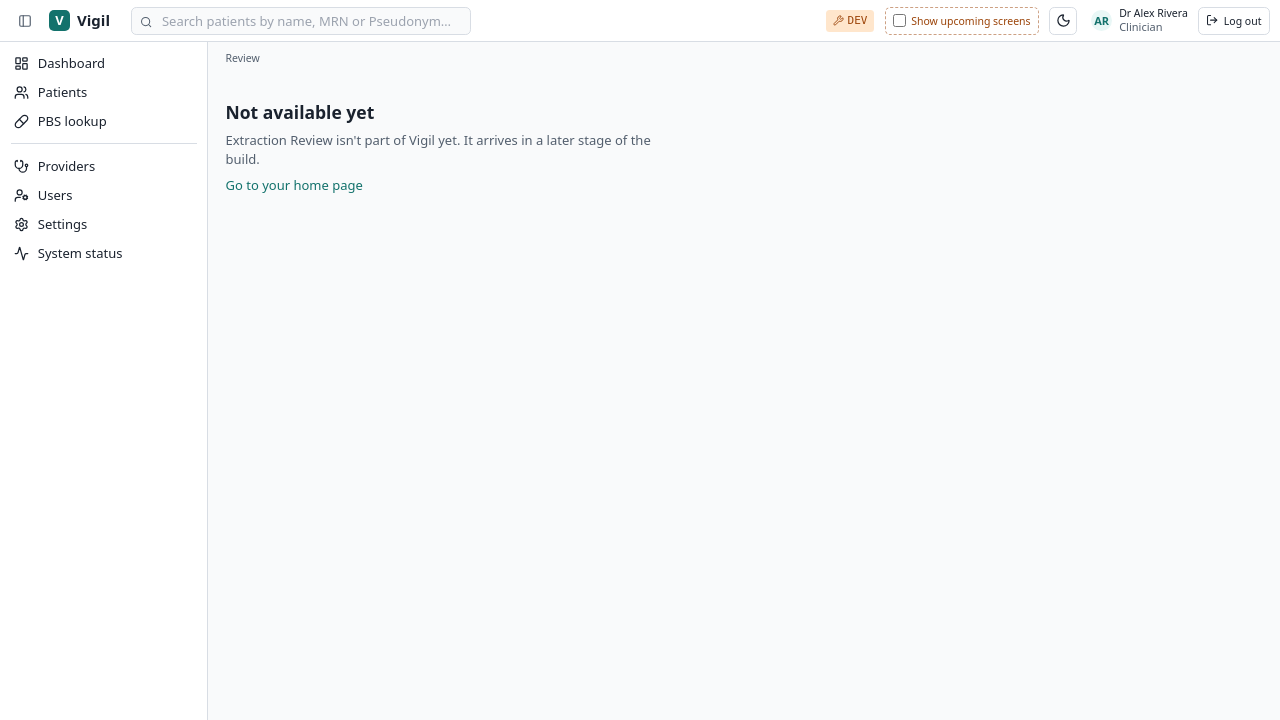
it: build stages (design doc §15) › reveals upcoming screens as labelled placeholders when the dev toggle is on
Expected: the navigation bar named "Main" is shown, [14,54,122,262]
Click the checkbox labelled "Show upcoming screens" at (899, 20), box [893,14,906,27]
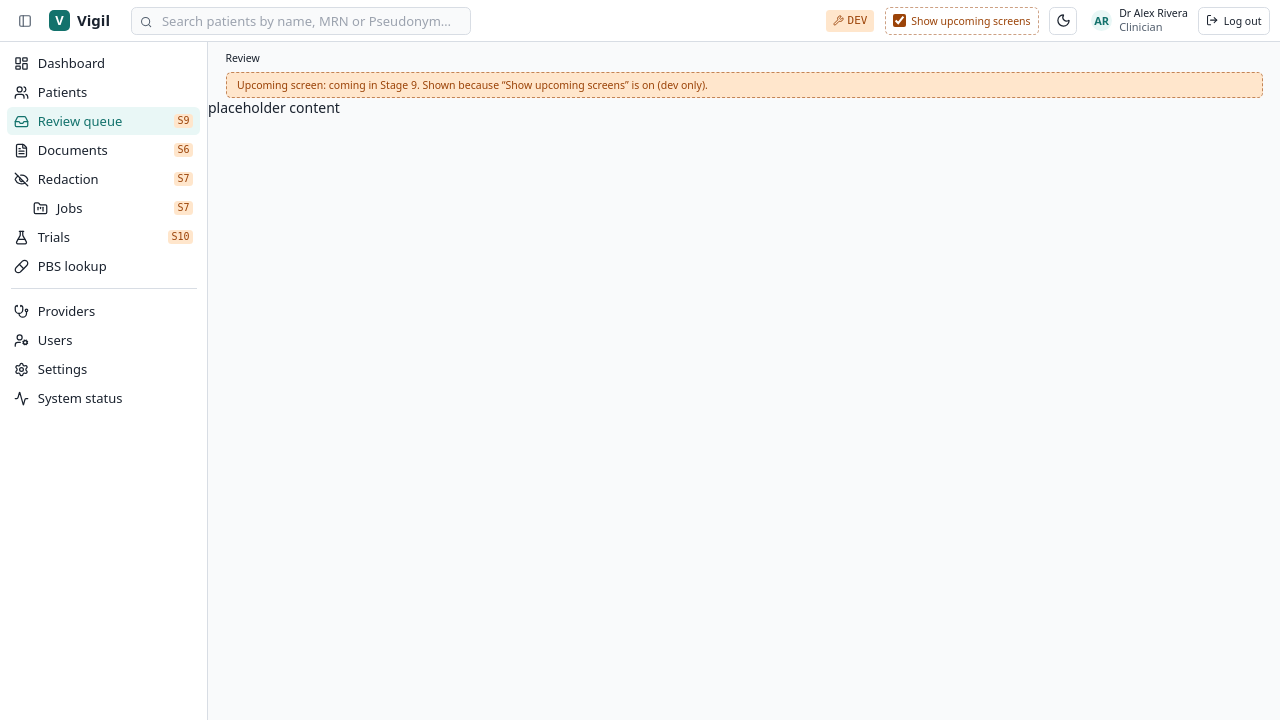
Expected: the text "placeholder content" is shown, [208,98,340,117]
Expected: the text "coming in Stage 9" is shown, [226,72,1262,98]
Expected: the link "Review queue S9" is shown, [7,107,200,135]
